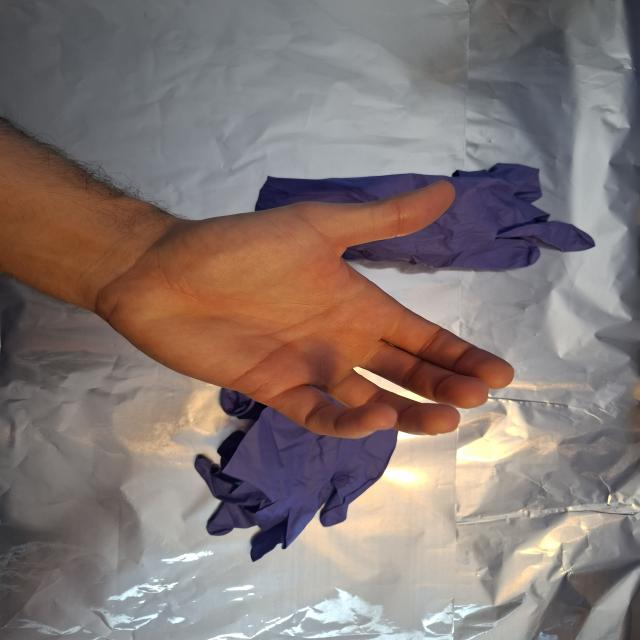glove_off: (93, 176, 517, 442)
